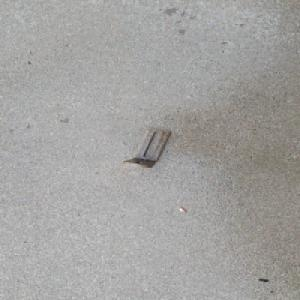MetalPart: (121, 127, 171, 168)
